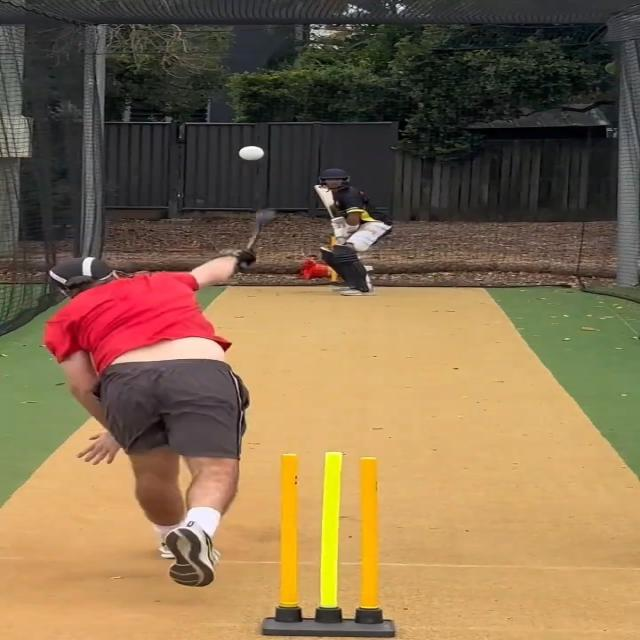ball: (238, 144, 266, 162)
stump: (264, 452, 398, 639)
